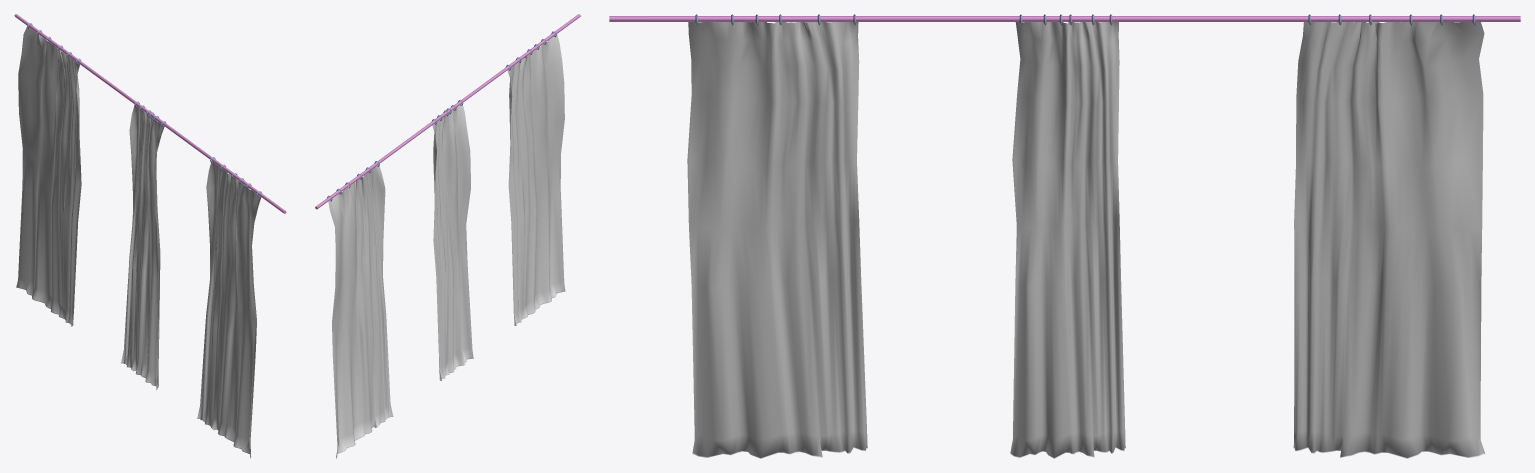
Rendered from LivingroomCurtains.FBX.
3 views of the same model, side by side, from view 1: azimuth 30°, elevation 25°; view 2: azimuth 150°, elevation 25°; view 3: azimuth 270°, elevation 25° (orthographic). The views are drawn at different scales.
Visible parts, largest first — view 1: LivingroomCurtains; view 2: LivingroomCurtains; view 3: LivingroomCurtains.
Part boxes in pixels (bbox=[...]): LivingroomCurtains: bbox=[14, 14, 286, 458]; LivingroomCurtains: bbox=[315, 14, 580, 458]; LivingroomCurtains: bbox=[609, 14, 1520, 458].
Size of the model in its own units: 14.01 by 431 by 234.
